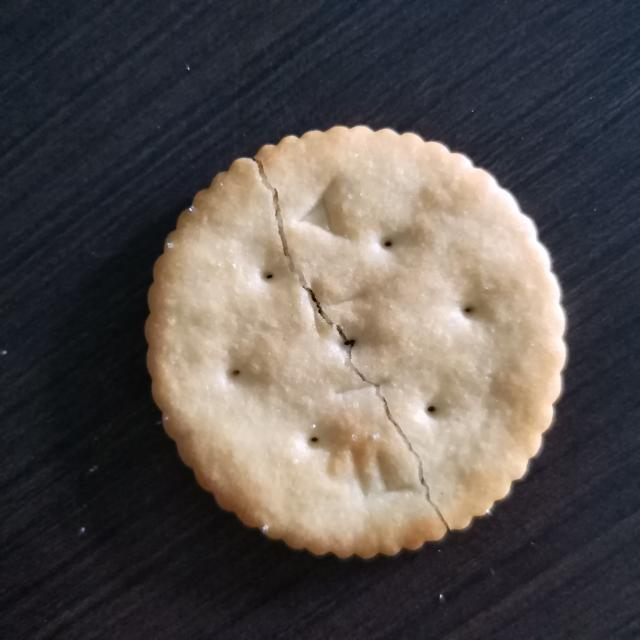Fracture: (225, 148, 471, 544)
